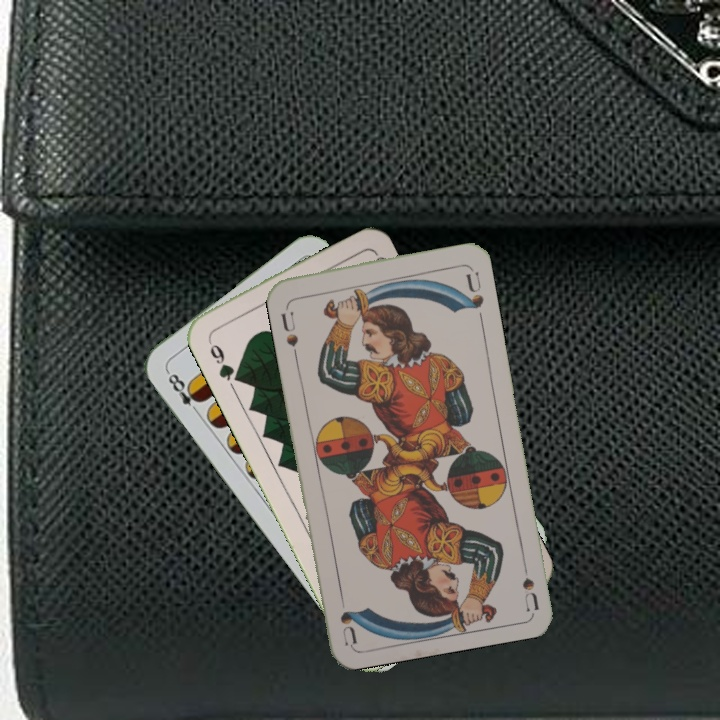E8: (162, 366, 206, 418)
G9: (204, 334, 244, 385)
SU: (518, 552, 541, 612), (276, 300, 301, 349)
